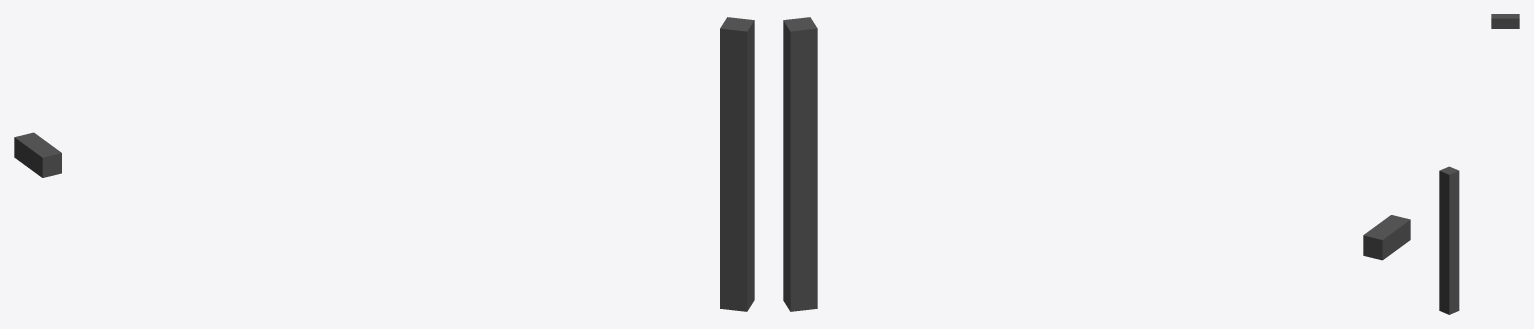
Rendered from M12_Static1Stone.fbx.
3 renders of one model, left to right at view 1: azimuth 30°, elevation 25°; view 2: azimuth 150°, elevation 25°; view 3: azimuth 270°, elevation 25°, orthographic. The views are drawn at different scales.
Visible parts, largest first — view 1: Rock1, Rock2; view 2: Rock1, Rock2; view 3: Rock1, Rock2.
Part boxes in pixels (box(x1,y1,x2,y2)): Rock1: box(720, 17, 754, 311); Rock2: box(14, 132, 61, 177); Rock1: box(783, 17, 817, 311); Rock2: box(1363, 215, 1410, 260); Rock1: box(1439, 166, 1459, 314); Rock2: box(1491, 14, 1519, 28).
Size of what is drawn, in the model's own units: 27.51 by 11 by 5.71.
